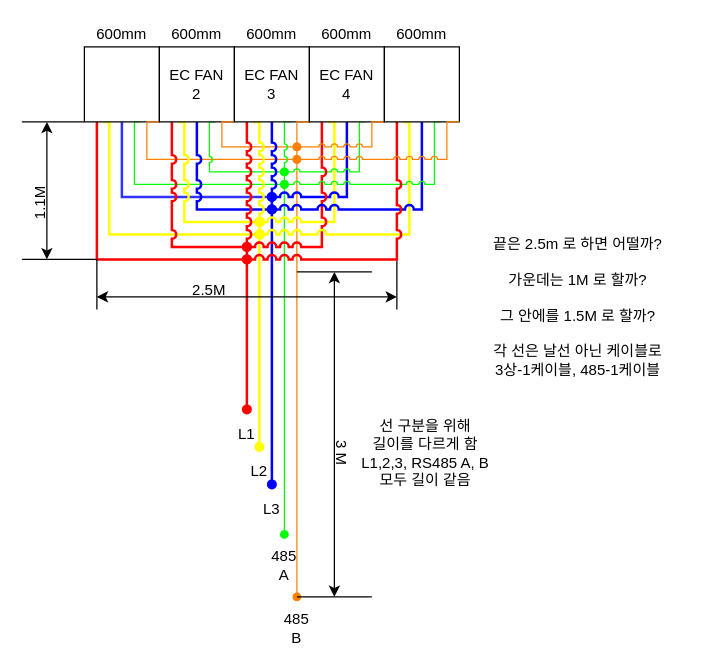
The diagram is 706 pixels wide and 668 high, and some of its shapes have lost their labels. The box of each missing label's shape, as (x1, y1, x2, y2) in pixels:
EC FAN 1: (83, 46, 159, 122)
EC FAN 5: (383, 46, 459, 122)
